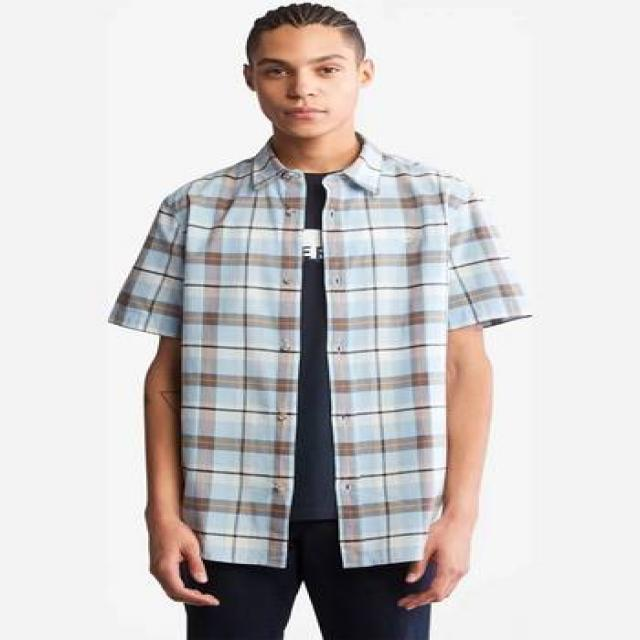plaid: (110, 150, 528, 592)
